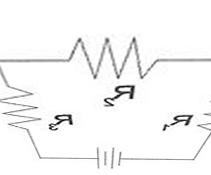resistor: (60, 27, 169, 79), (1, 79, 35, 138)
